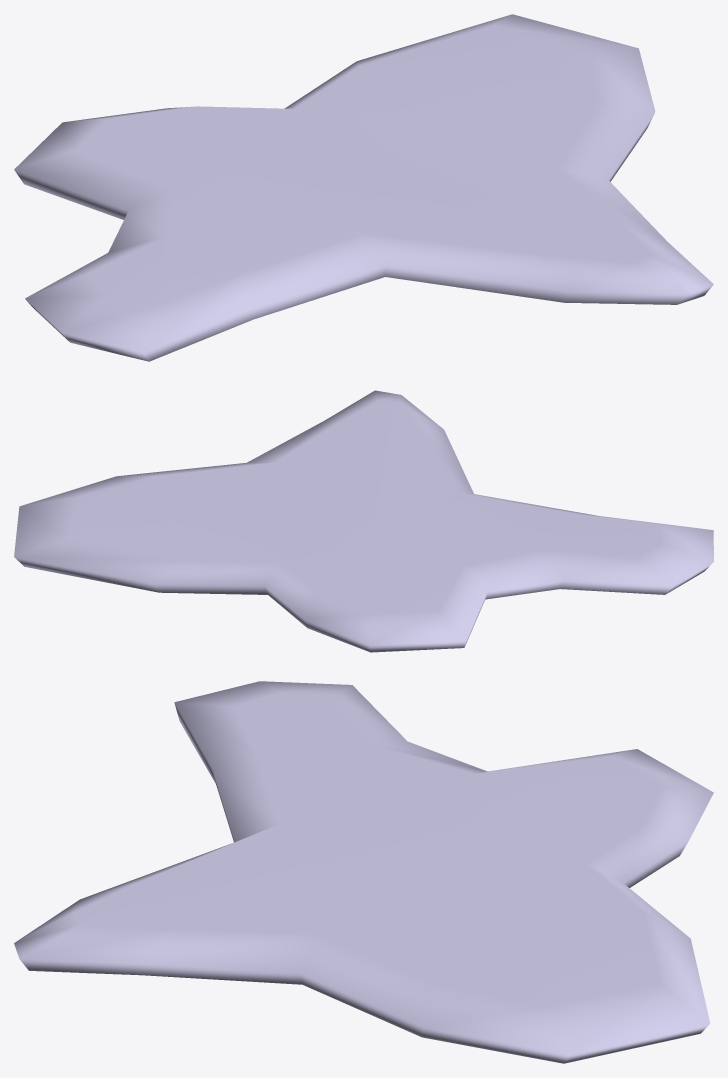
Rendered from puddle.fbx.
3 renders of one model, top to bottom at view 1: azimuth 30°, elevation 25°; view 2: azimuth 150°, elevation 25°; view 3: azimuth 270°, elevation 25°, orthographic. The views are drawn at different scales.
Visible parts, largest first — view 1: polySurface330; view 2: polySurface330; view 3: polySurface330.
Part boxes in pixels (x1,y1,x2,y2): polySurface330: (14,14,713,361); polySurface330: (14,390,713,652); polySurface330: (14,681,713,1063).
Bounding box in the file's own units: 103 × 4.07 × 81.57.
